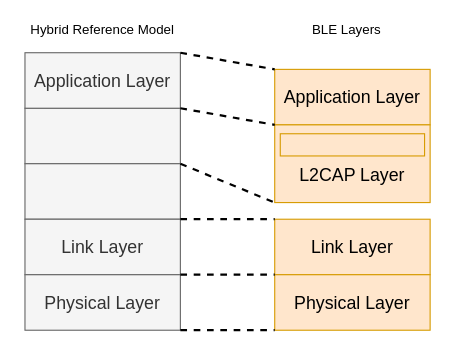
Some shapes in this 450 by 351 pixel diagram are drawn without their labels. The box of each missing label's shape, as (x1, y1, x2, y2) in pixels:
GAP, GATT, SMP: (279, 133, 425, 156)
Network Layer: (24, 163, 180, 219)
Transport Layer: (24, 107, 180, 164)
